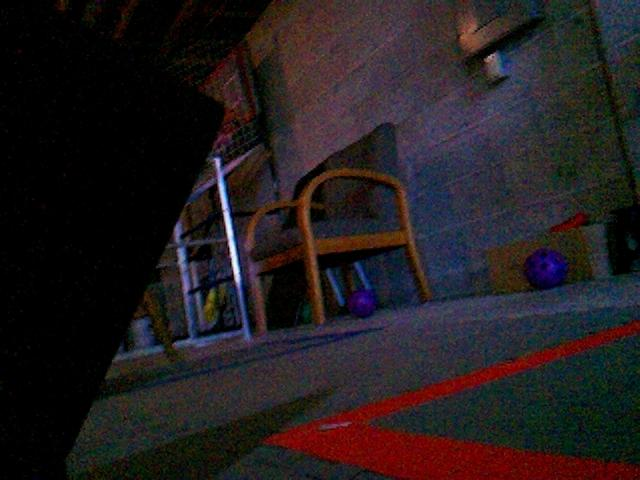Green: (294, 297, 313, 324)
Purple: (522, 246, 570, 289), (344, 286, 379, 320)
